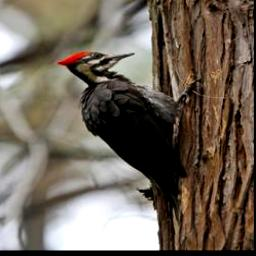Woodpecker: (56, 50, 204, 221)
